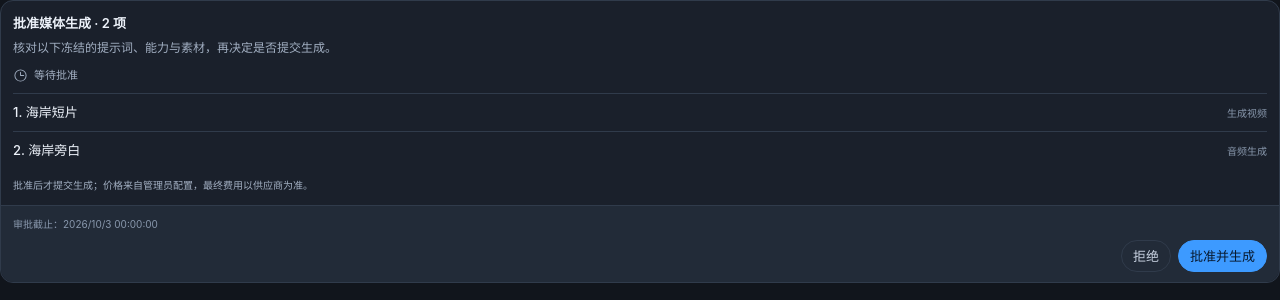
Test: AgentMediaApprovalCard › submits the whole batch once with its version and idempotency key while both decisions are disabled
Click the button "批准并生成": coordinates (1222, 256) [1178,240,1267,272]
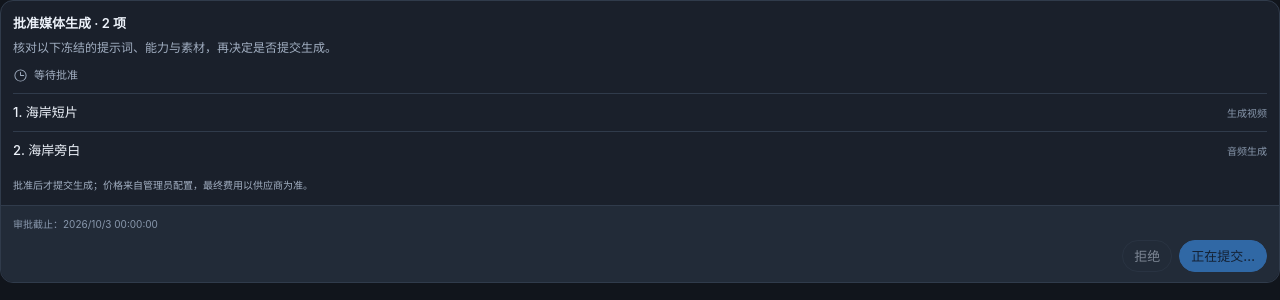
Check: the button "正在提交…" is disabled
Check: the button "拒绝" is disabled, box [1122,240,1172,272]
Click the button "正在提交…": coordinates (1223, 256) [1179,240,1267,272]
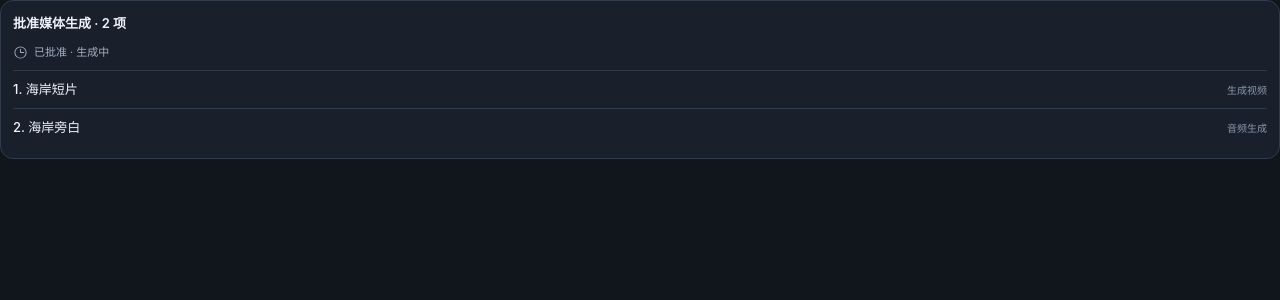
Check: the button "批准并生成" is not shown
Check: the text "已批准 · 生成中" is shown, box [13,44,109,60]
